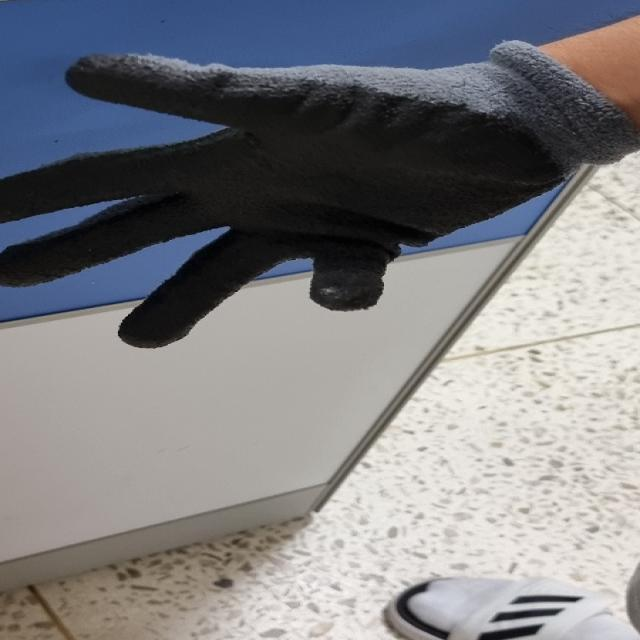Gloves: (0, 41, 636, 360)
